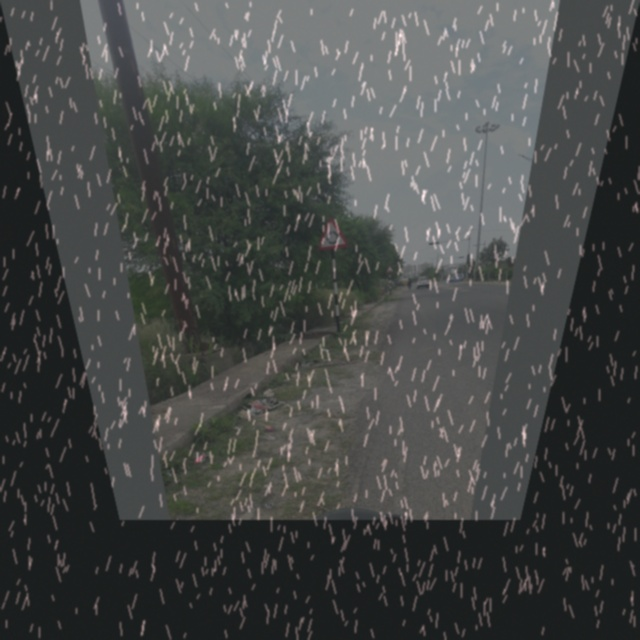Round_About: (313, 210, 357, 251)
